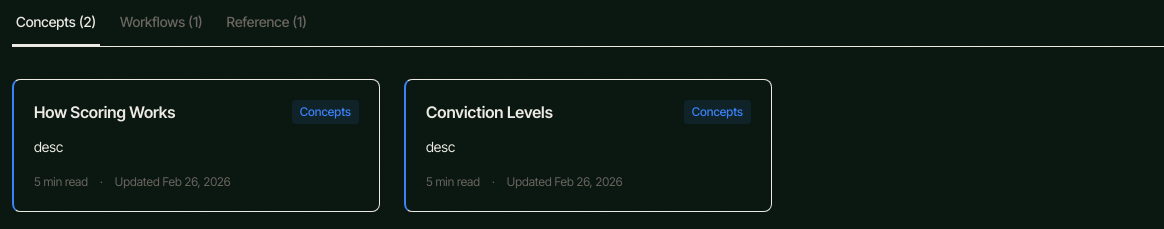
Test case: GuideCategoryTabs › switches to Workflows tab when clicked
Click the tab "Workflows (1)" at x=161, y=29, box [116,12,207,46]
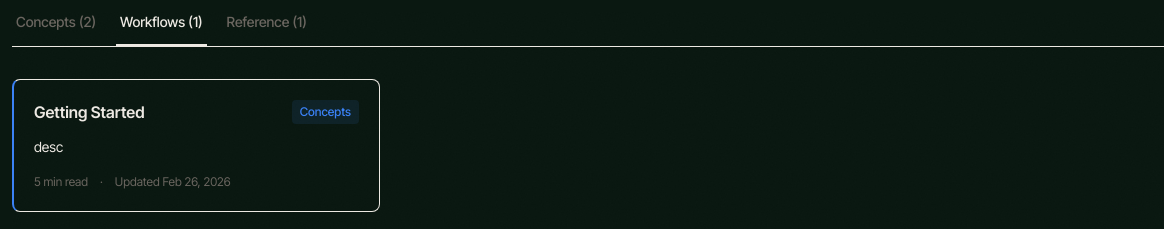
Result: the heading "Getting Started" is shown at [34,102,145,122]
Result: the link "How Scoring Works" is gone
